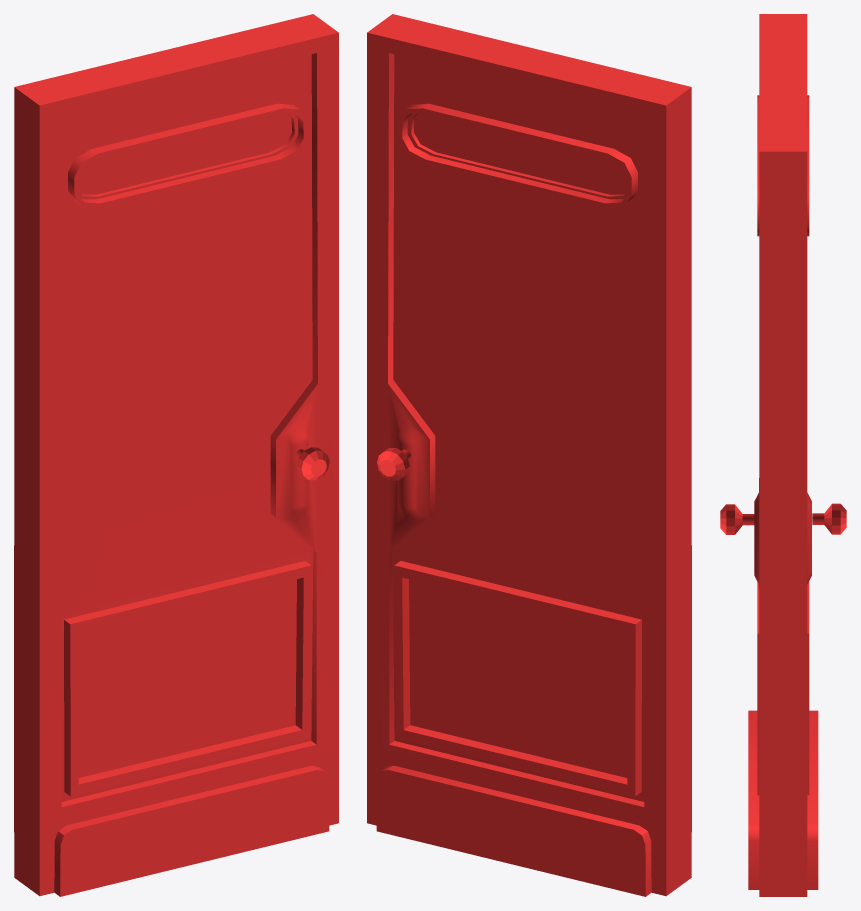
Rendered from Door_Bal.fbx.
The picture shows the model from 3 angles, left to right: view 1: azimuth 30°, elevation 25°; view 2: azimuth 150°, elevation 25°; view 3: azimuth 270°, elevation 25°; orthographic projection. The views are drawn at different scales.
Parts seen in each view (by area): view 1: Cube; view 2: Cube; view 3: Cube.
Boxes of the visible parts, x1,y1,x2,y2 form: Cube: (14, 14, 338, 896); Cube: (367, 14, 691, 896); Cube: (720, 14, 846, 896).
Size of the model in its own units: 38.99 by 98.43 by 15.1.
